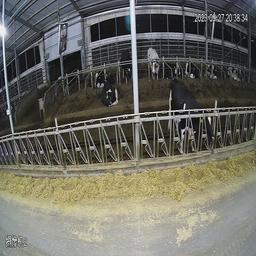cow: (169, 74, 223, 177), (98, 69, 122, 111), (145, 37, 162, 88), (115, 42, 132, 85), (207, 56, 228, 87), (180, 54, 201, 77), (231, 56, 245, 85)
